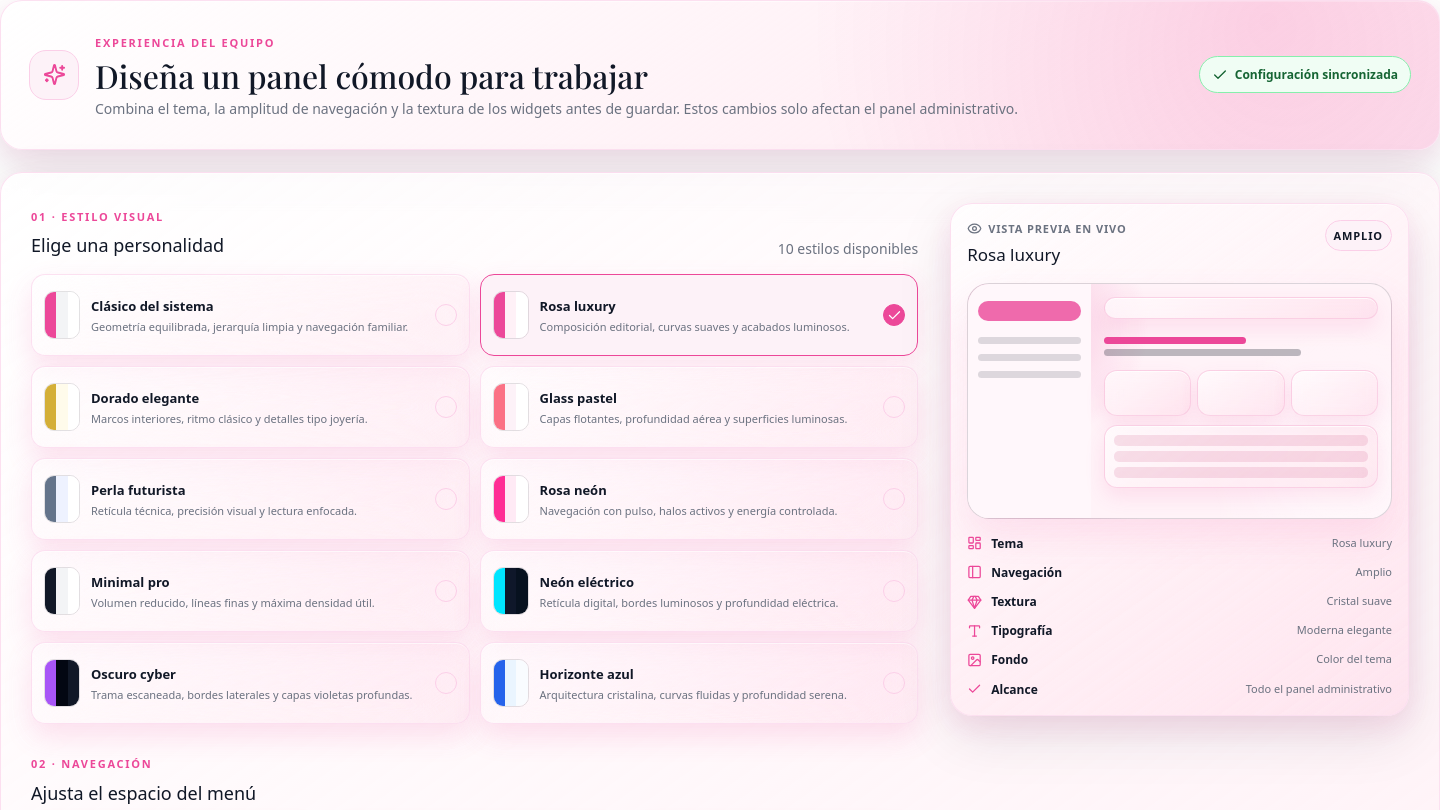
Test: PanelAdminSection Nivel Plus › mantiene los cambios como vista previa hasta que el usuario guarda
Expected: the text "Configuración sincronizada" is shown, left=1199, top=56, right=1411, bottom=94
Click the button "Dorado elegante": (62, 407) left=31, top=366, right=470, bottom=448
(page scrolled)
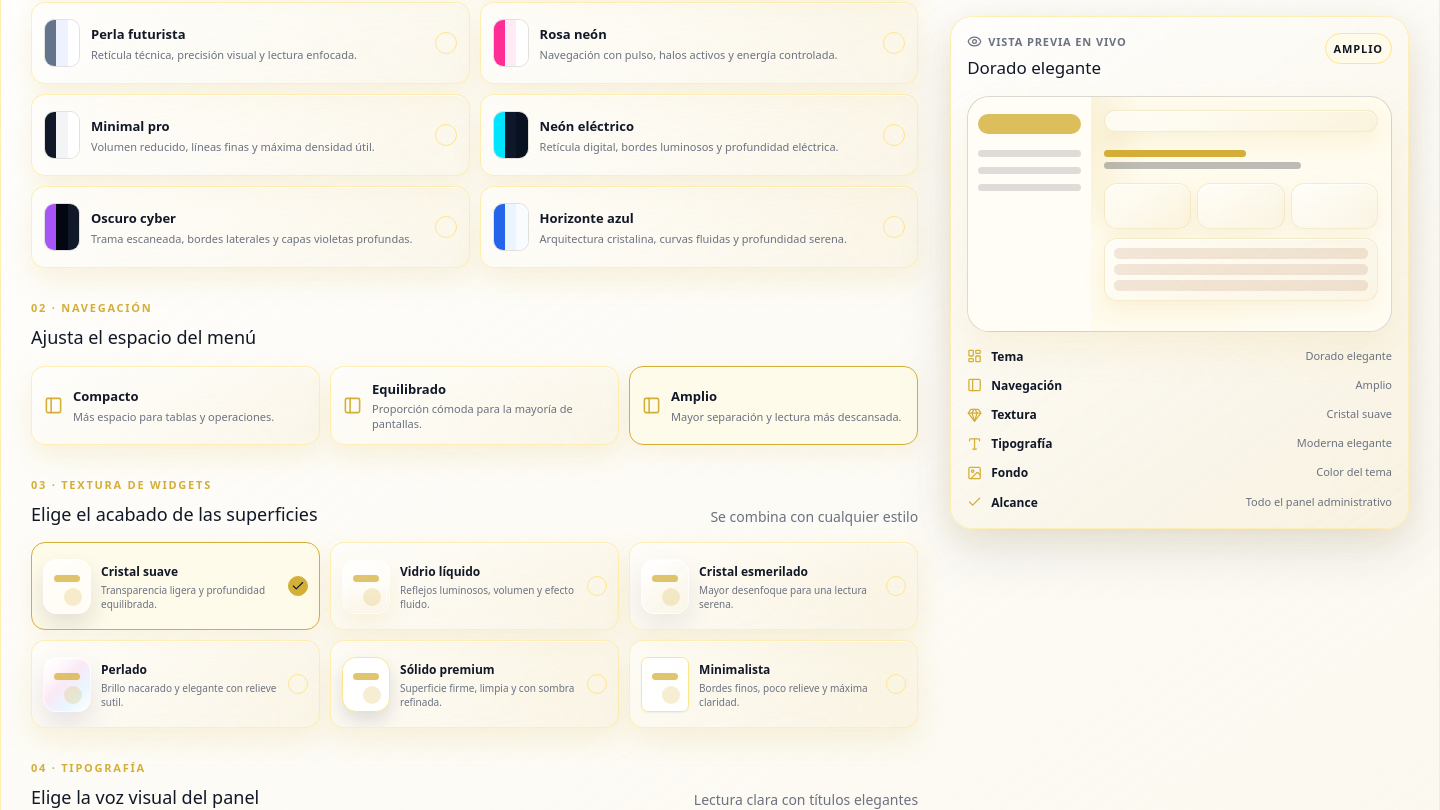
Click the button "Compacto Más espacio para tablas y operaciones.": (106, 396) left=31, top=366, right=320, bottom=445
(page scrolled)
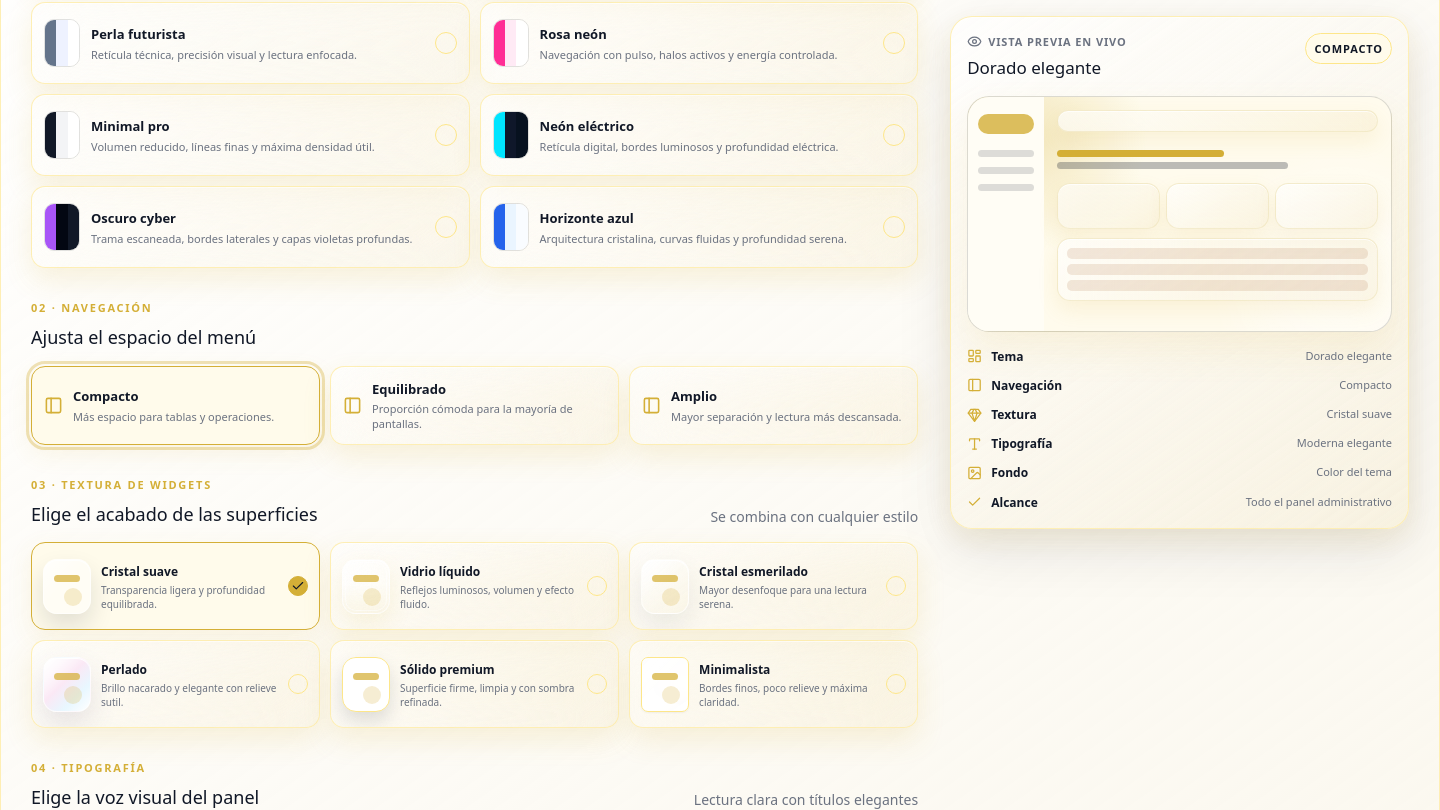
Click the button "Vidrio líquido Reflejos luminosos, volumen y efecto fluido.": (474, 586) left=330, top=542, right=619, bottom=630
(page scrolled)
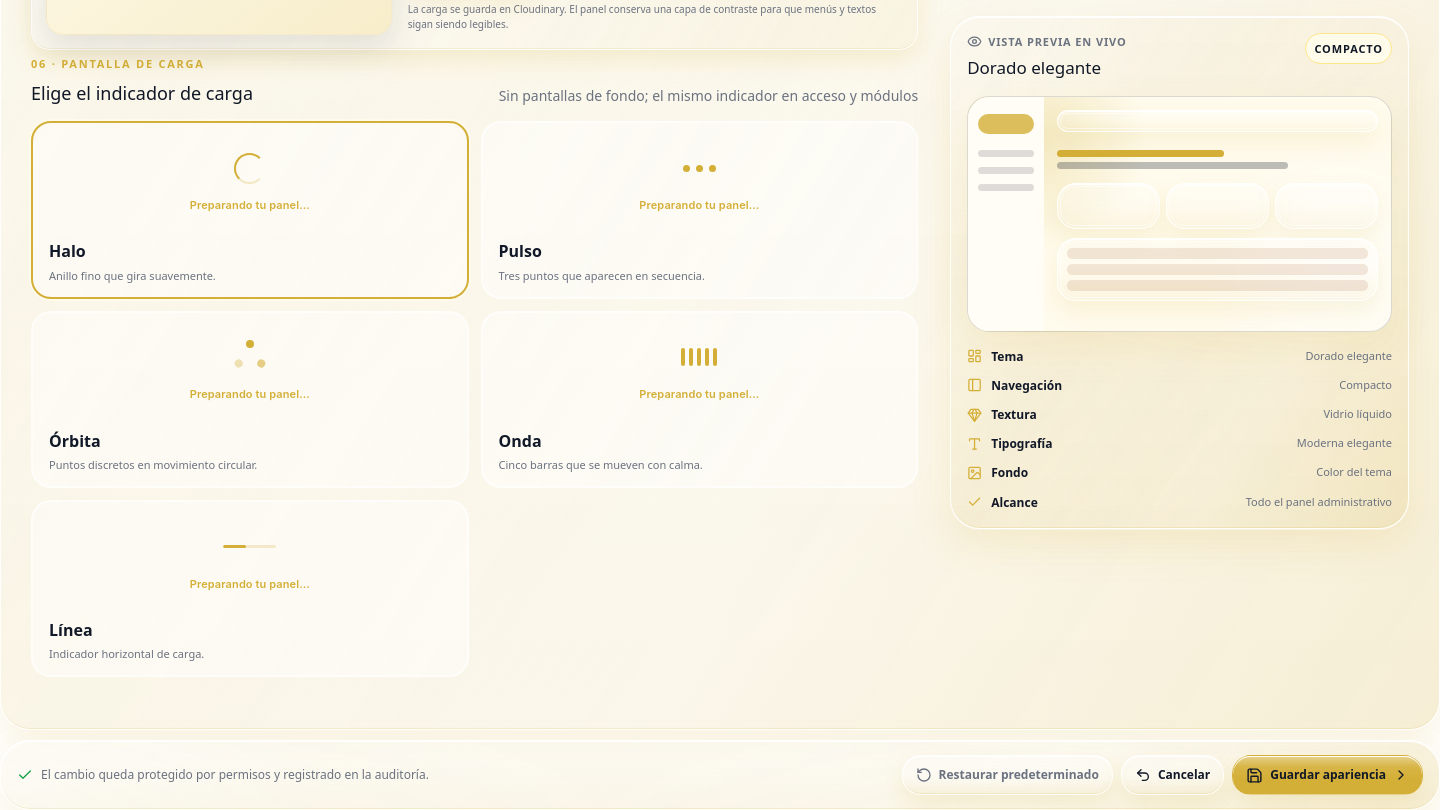
Click the button "Guardar apariencia": (1328, 775) left=1232, top=755, right=1423, bottom=795
(page scrolled)
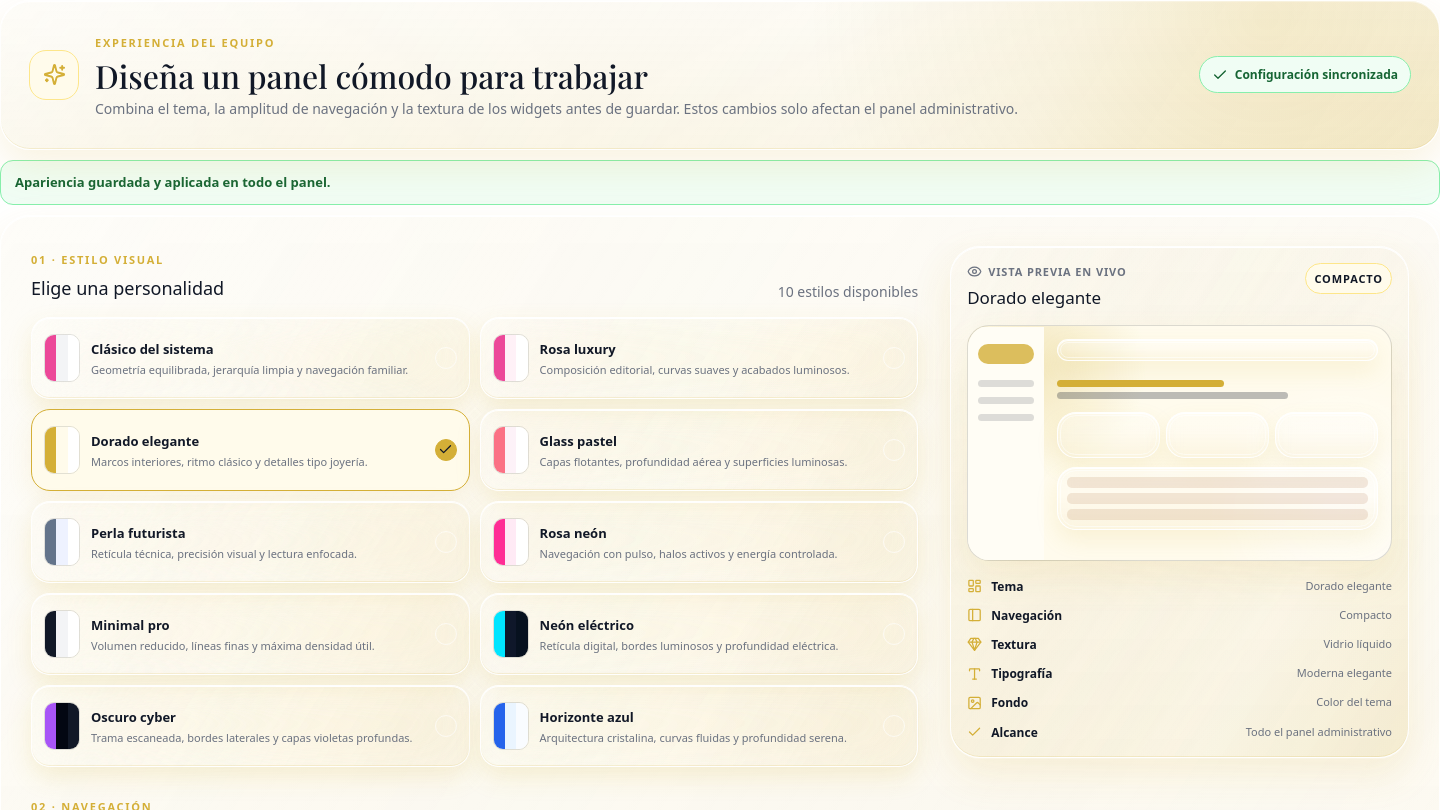
Now the text "Apariencia guardada y aplicada en todo el panel." is shown, box left=0, top=160, right=1439, bottom=205
Now the text "Configuración sincronizada" is shown, box left=1199, top=56, right=1411, bottom=94
